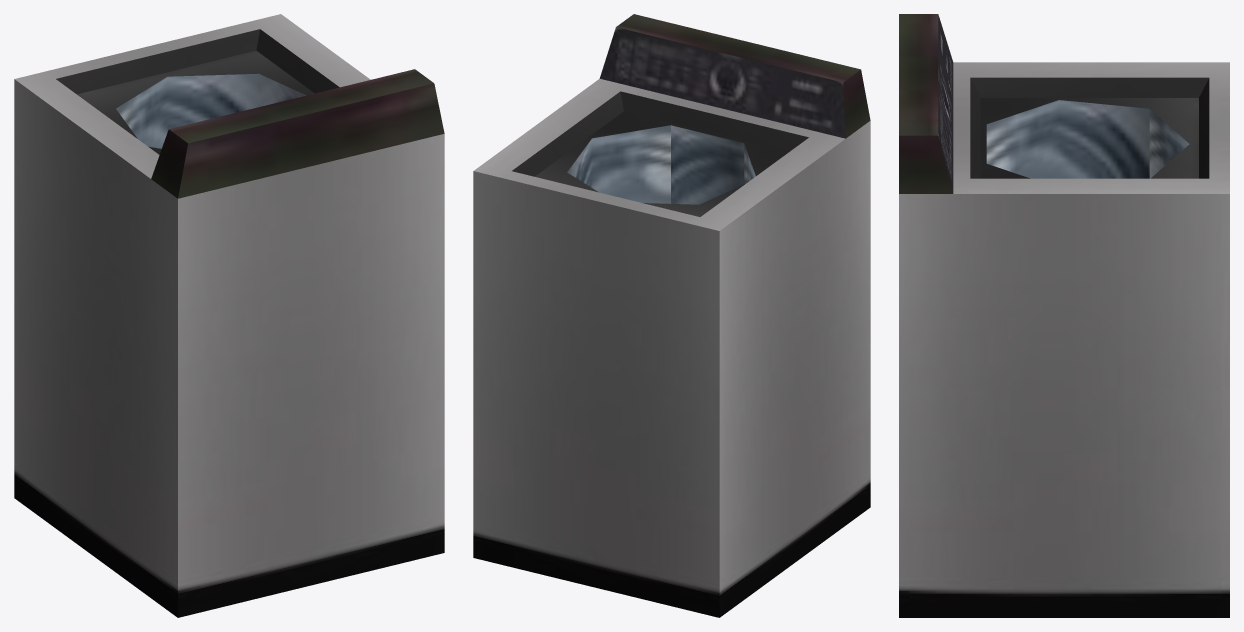
The model's file is Washing_machine_02.glb.
3 renders of one model, left to right at view 1: azimuth 30°, elevation 25°; view 2: azimuth 150°, elevation 25°; view 3: azimuth 270°, elevation 25°, orthographic. The views are drawn at different scales.
Visible parts, largest first — view 1: Washing_machine_02; view 2: Washing_machine_02; view 3: Washing_machine_02.
Boxes of the visible parts, x1,y1,x2,y2 form: Washing_machine_02: (14,14,444,617); Washing_machine_02: (473,14,870,617); Washing_machine_02: (899,14,1229,617).
Bounding box in the file's own units: 0.7947 × 1.34 × 0.8445.
Materials: 1 (1 with a texture image).
